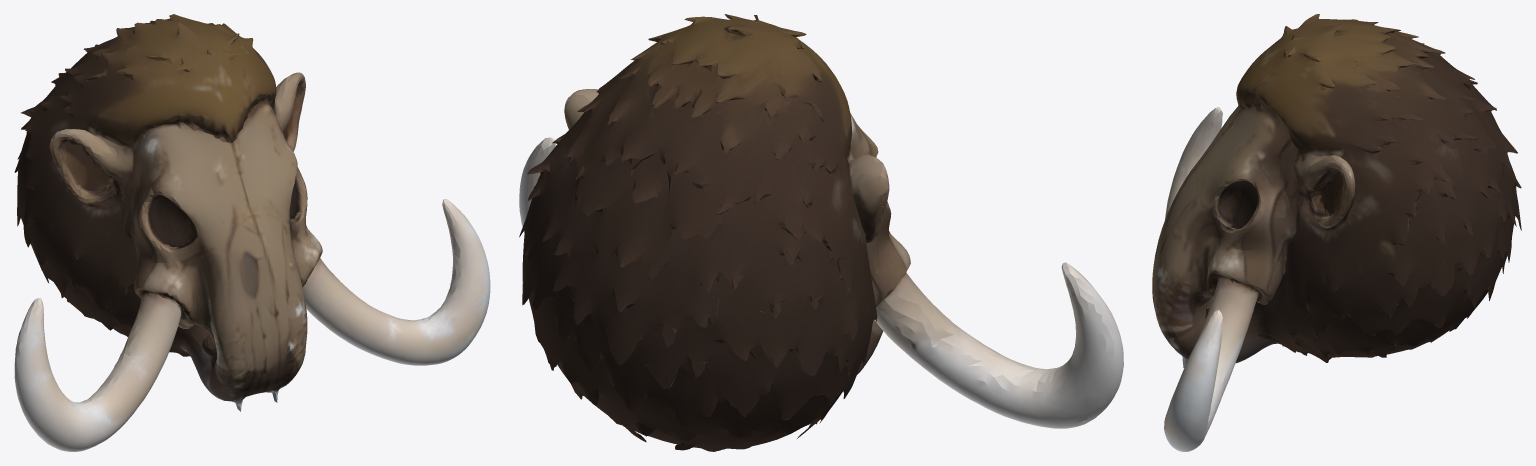
The model's file is Hollow_MammothSkull.glb.
3 views of the same model, side by side, from view 1: azimuth 30°, elevation 25°; view 2: azimuth 150°, elevation 25°; view 3: azimuth 270°, elevation 25° (orthographic). The views are drawn at different scales.
Parts seen in each view (by area): view 1: Cave_MammothSkull; view 2: Cave_MammothSkull; view 3: Cave_MammothSkull.
Boxes of the visible parts, x1,y1,x2,y2 form: Cave_MammothSkull: (14, 14, 490, 451); Cave_MammothSkull: (519, 14, 1123, 451); Cave_MammothSkull: (1152, 14, 1521, 451).
Size of the model in its own units: 2.26 by 1.5 by 1.5.
Materials: 1 (1 with a texture image).
